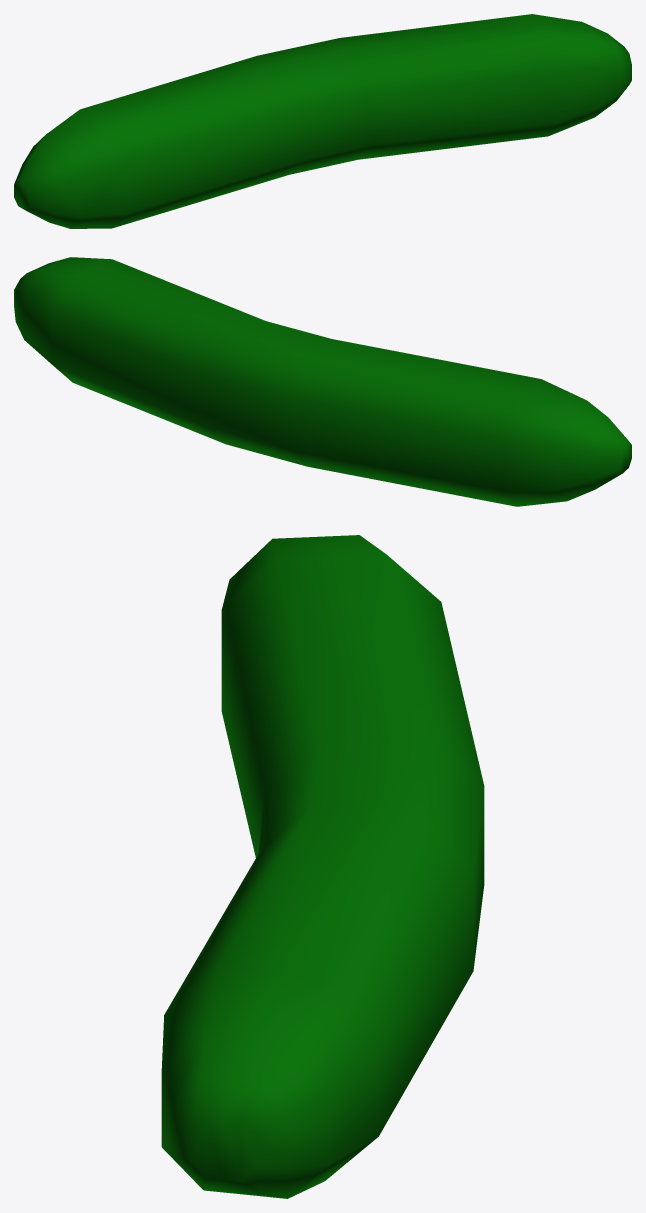
Rendered from mesh_Cucumber_FullCucumber.fbx.
The picture shows the model from 3 angles, top to bottom: view 1: azimuth 30°, elevation 25°; view 2: azimuth 150°, elevation 25°; view 3: azimuth 270°, elevation 25°; orthographic projection. The views are drawn at different scales.
Parts seen in each view (by area): view 1: mesh_Cucumber_FullCucumber; view 2: mesh_Cucumber_FullCucumber; view 3: mesh_Cucumber_FullCucumber.
Part boxes in pixels (left/top/right/bottom): mesh_Cucumber_FullCucumber: left=14, top=14, right=631, bottom=228; mesh_Cucumber_FullCucumber: left=14, top=257, right=631, bottom=506; mesh_Cucumber_FullCucumber: left=161, top=535, right=484, bottom=1198.
Size of the model in its own units: 0.2268 by 0.0367 by 0.0535.
